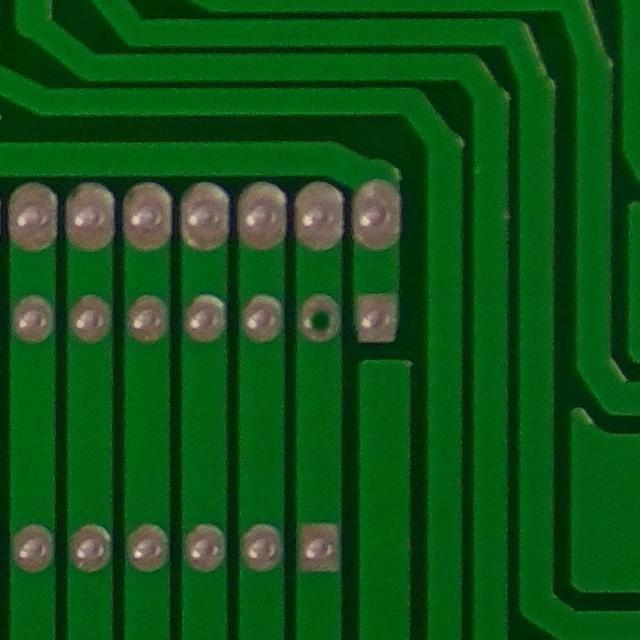missing_hole: (292, 286, 347, 349)
